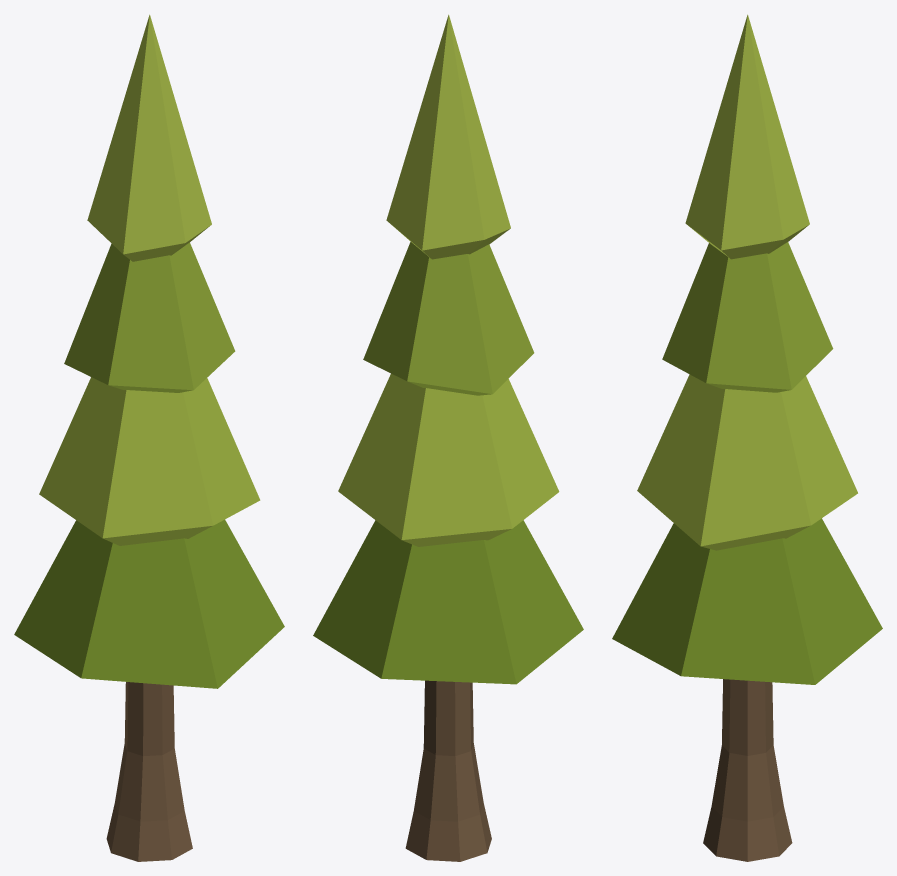
The model's file is NHP_Tree_LP_D1_7m_01.fbx.
3 renders of one model, left to right at view 1: azimuth 30°, elevation 25°; view 2: azimuth 150°, elevation 25°; view 3: azimuth 270°, elevation 25°, orthographic.
Visible parts, largest first — view 1: NHP_Tree_LP_D1_7m_01; view 2: NHP_Tree_LP_D1_7m_01; view 3: NHP_Tree_LP_D1_7m_01.
Part boxes in pixels (x1,y1,x2,y2): NHP_Tree_LP_D1_7m_01: (14, 14, 284, 861); NHP_Tree_LP_D1_7m_01: (313, 14, 583, 861); NHP_Tree_LP_D1_7m_01: (612, 14, 882, 861).
Size of the model in its own units: 1.74 by 6.77 by 2.
